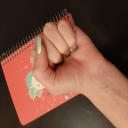Fist: (31, 18, 96, 98)
